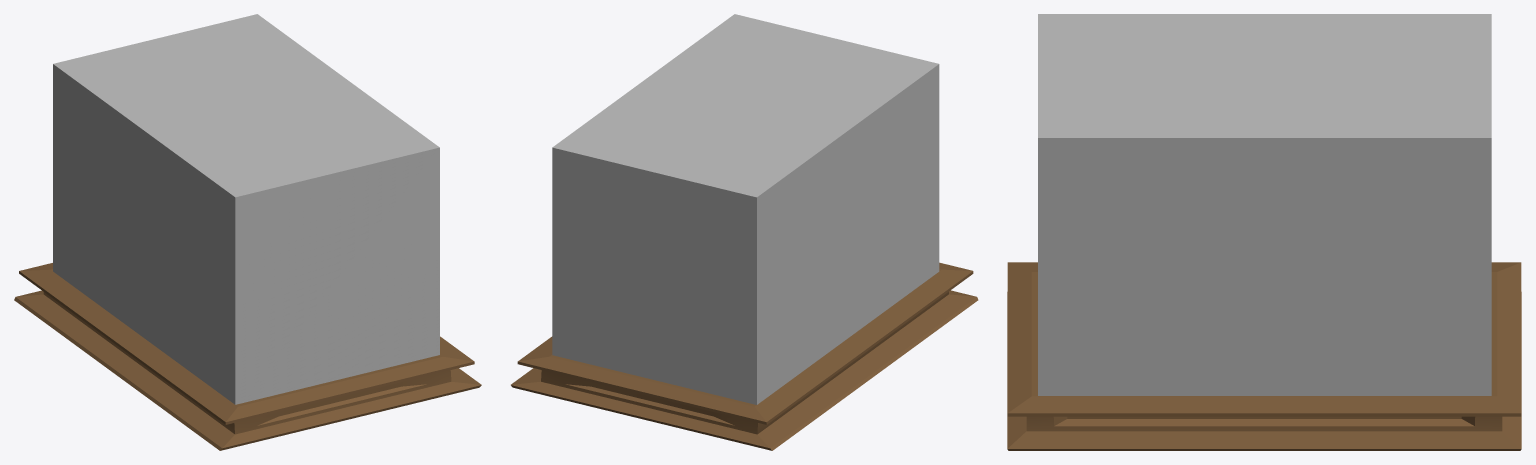
File: large display stand.fbx
3 renders of one model, left to right at view 1: azimuth 30°, elevation 25°; view 2: azimuth 150°, elevation 25°; view 3: azimuth 270°, elevation 25°, orthographic. The views are drawn at different scales.
Parts seen in each view (by area): view 1: pCube61, pCube59; view 2: pCube61, pCube59; view 3: pCube61, pCube59.
Part boxes in pixels (bbox=[...]): pCube61: bbox=[53, 14, 439, 404]; pCube59: bbox=[14, 263, 481, 450]; pCube61: bbox=[552, 14, 939, 404]; pCube59: bbox=[511, 262, 978, 450]; pCube61: bbox=[1038, 14, 1491, 395]; pCube59: bbox=[1007, 262, 1521, 450].
Size of the model in its own units: 9.58 by 8.34 by 13.13.
